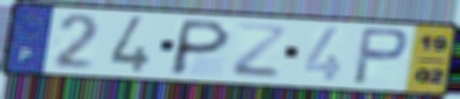2: (53, 12, 101, 72)
4: (106, 14, 154, 76), (302, 25, 345, 84)
P: (166, 17, 235, 78), (350, 25, 411, 88)
Z: (228, 21, 291, 80)
